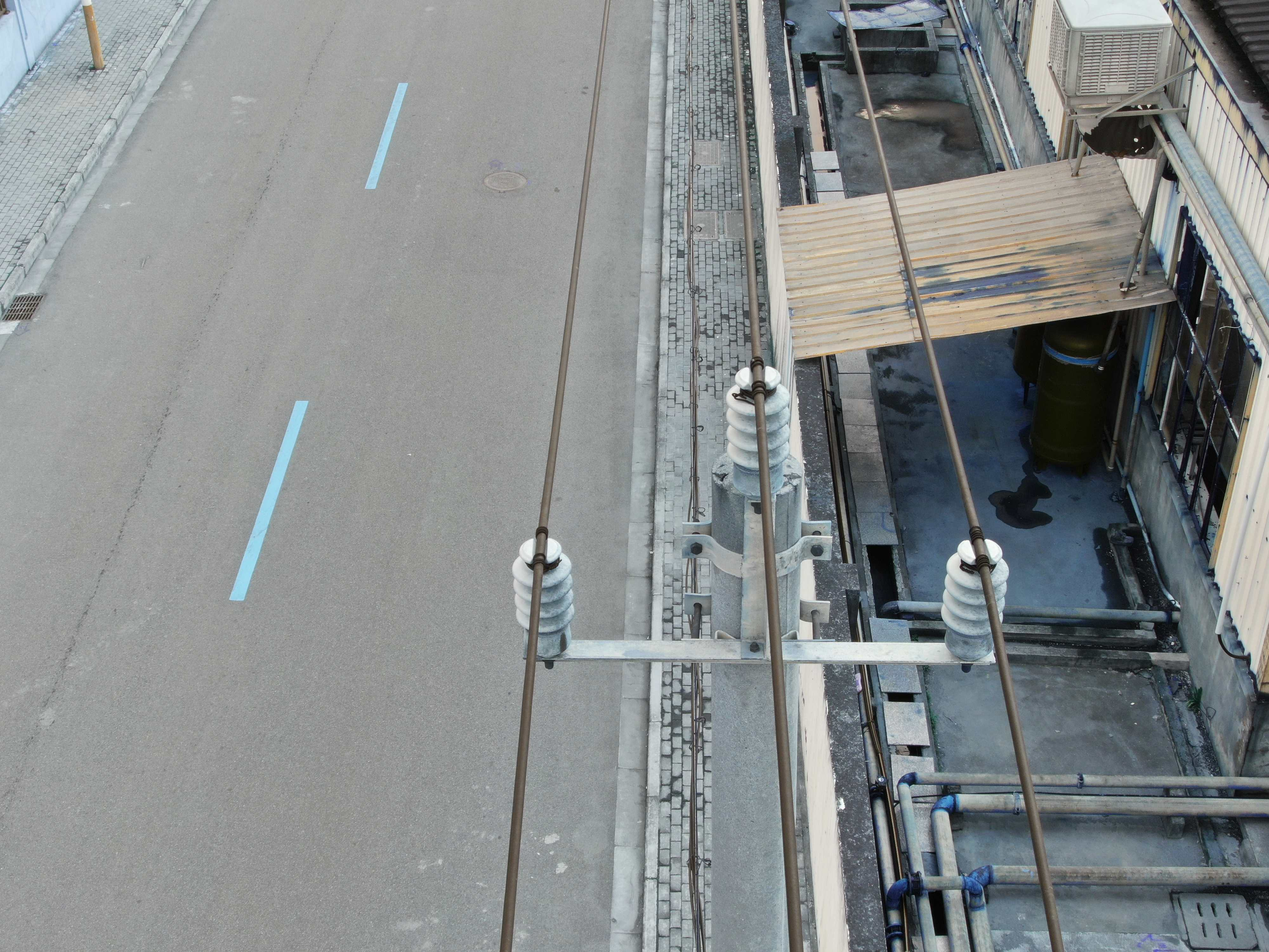severe_soiling_no_discharge_whole: (721, 359, 797, 498), (937, 533, 1011, 662), (508, 535, 580, 657)
